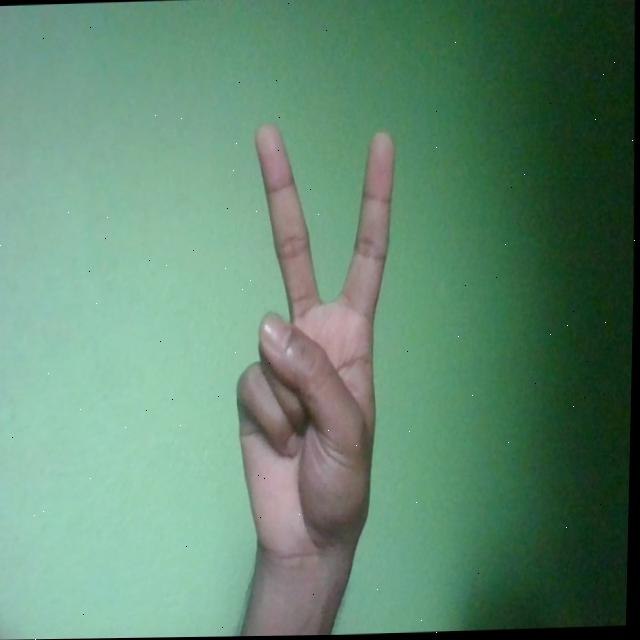Peace: (228, 115, 404, 580)
